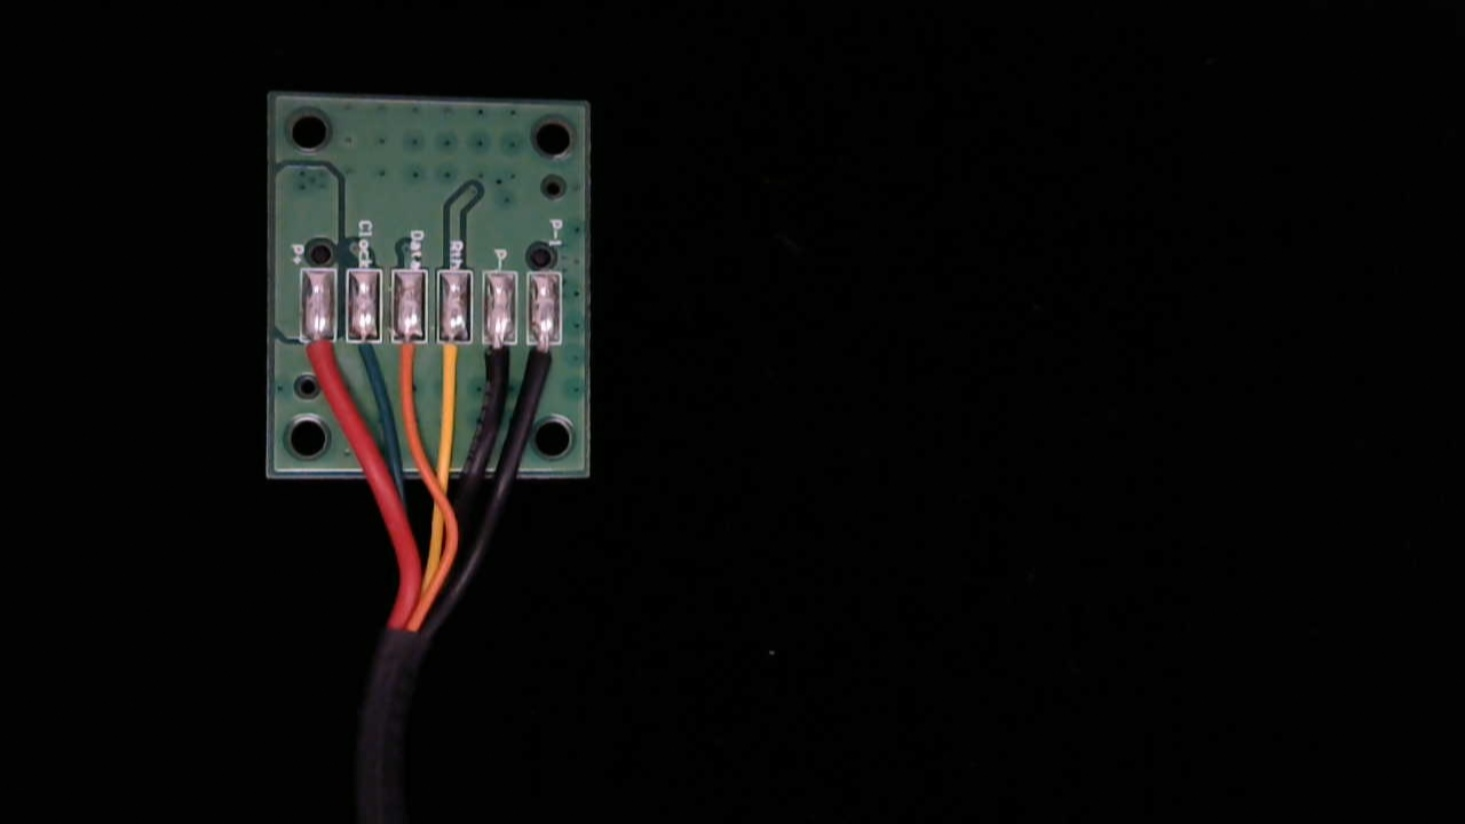Black: (468, 312, 510, 395)
Black1: (522, 315, 566, 398)
Green: (315, 306, 362, 383)
Orange: (367, 307, 410, 384)
Red: (262, 304, 309, 392)
Yellow: (422, 310, 459, 391)
